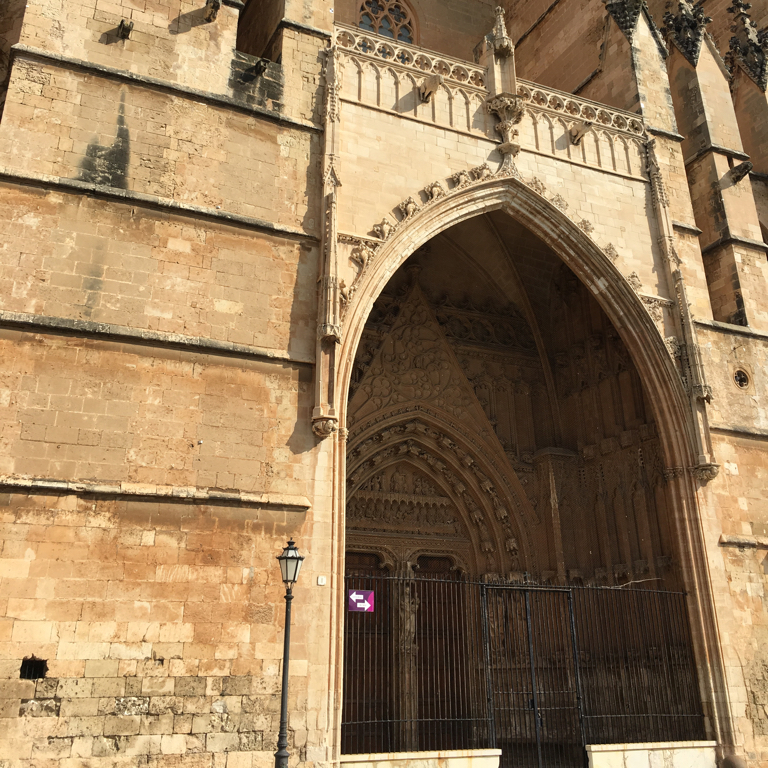arco-apuntado: (334, 166, 689, 439), (341, 392, 504, 544)
